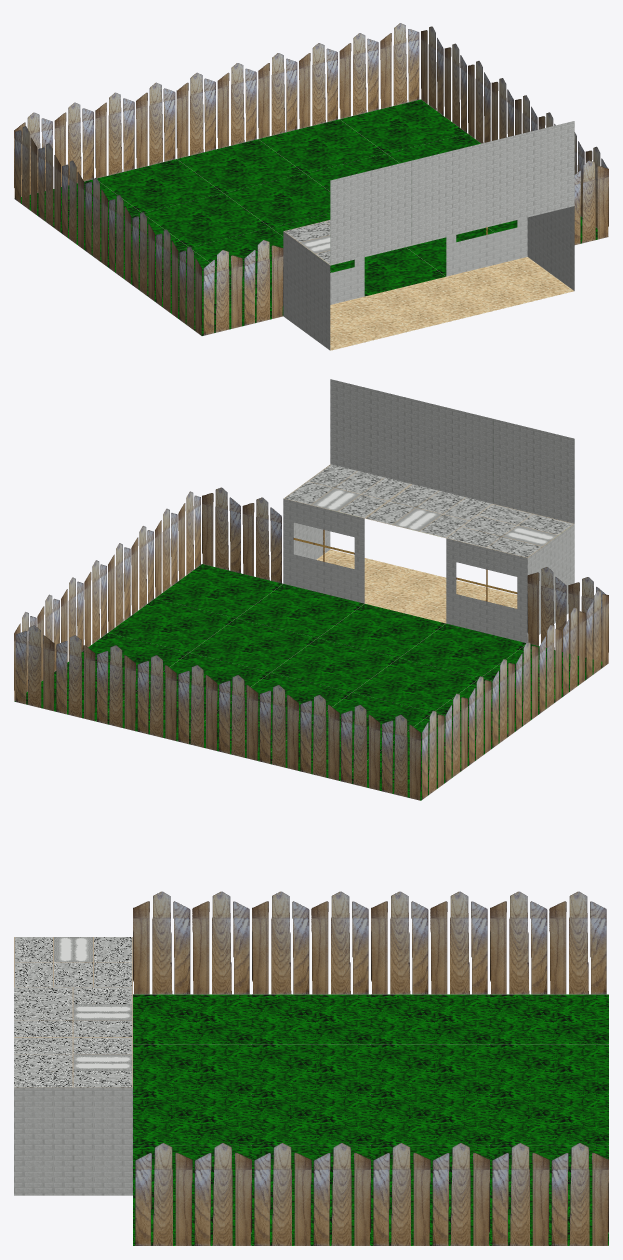
The model's file is exit_mesh.dae.
3 views of the same model, one above another, from view 1: azimuth 30°, elevation 25°; view 2: azimuth 150°, elevation 25°; view 3: azimuth 270°, elevation 25° (orthographic). The views are drawn at different scales.
Visible parts, largest first — view 1: school_exit-col; view 2: school_exit-col; view 3: school_exit-col.
Part boxes in pixels (<box>): school_exit-col: <box>14,23,608,350</box>; school_exit-col: <box>14,379,608,800</box>; school_exit-col: <box>14,891,608,1245</box>.
Bounding box in the file's own units: 50 × 50 × 20.
